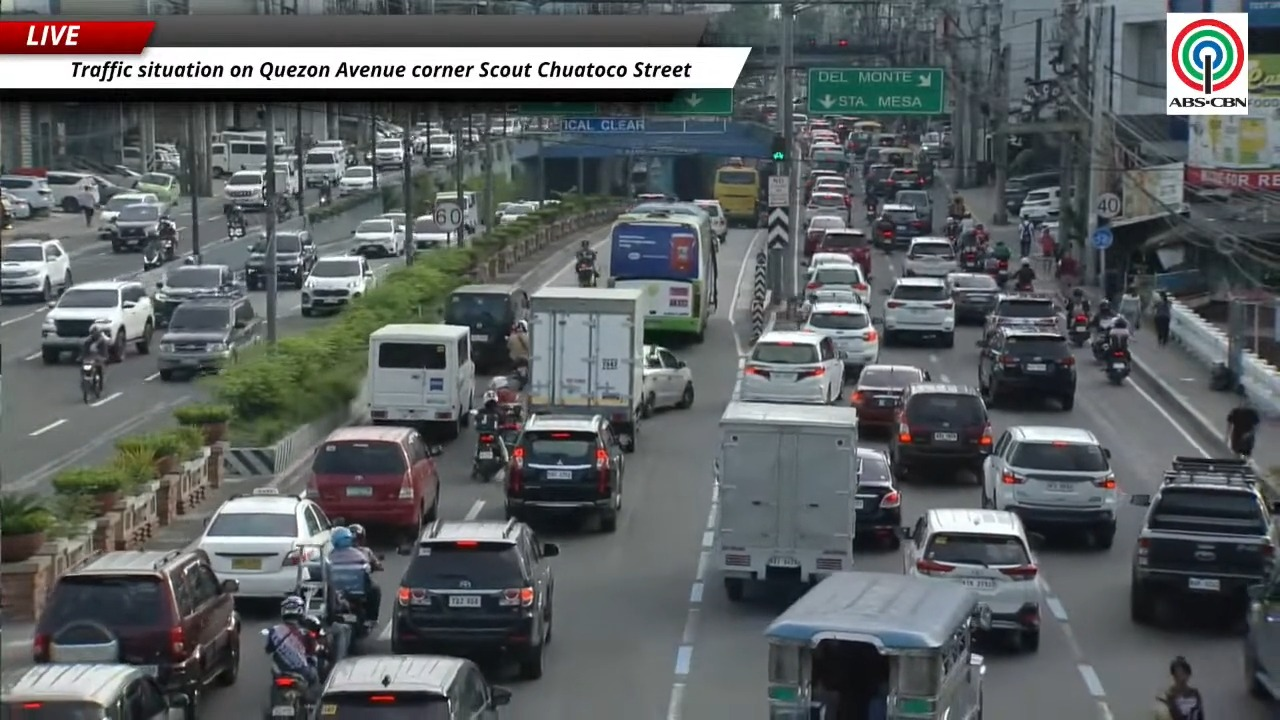bus: (608, 212, 716, 341), (713, 163, 760, 225)
car: (33, 548, 241, 696), (391, 519, 559, 679), (1129, 456, 1279, 624), (903, 508, 1041, 651), (982, 425, 1118, 548), (195, 487, 331, 598), (308, 425, 441, 533), (504, 414, 625, 532), (318, 654, 511, 719), (0, 663, 190, 719), (889, 381, 992, 478), (41, 280, 154, 363), (157, 296, 260, 380), (979, 327, 1076, 410), (740, 331, 844, 404), (444, 283, 528, 373), (152, 265, 245, 327), (801, 302, 879, 373), (851, 364, 930, 433), (884, 277, 955, 347), (854, 447, 901, 548), (0, 237, 71, 302), (301, 255, 375, 316), (643, 345, 694, 412), (985, 293, 1063, 334), (108, 204, 167, 252), (946, 272, 1000, 323), (98, 192, 159, 237), (805, 263, 870, 304), (817, 228, 871, 277), (275, 229, 317, 288), (1005, 171, 1061, 215), (44, 171, 101, 212), (903, 236, 957, 277), (0, 175, 53, 215), (876, 203, 924, 246), (351, 218, 403, 257), (223, 169, 266, 212), (801, 286, 865, 314), (804, 215, 847, 256), (893, 189, 933, 231), (411, 214, 456, 250), (135, 172, 180, 207), (805, 190, 850, 223), (1019, 186, 1060, 222), (694, 199, 727, 243), (337, 165, 376, 195), (804, 169, 839, 201), (864, 162, 895, 197), (885, 168, 925, 192), (374, 138, 404, 169), (498, 202, 538, 225), (0, 191, 31, 219), (424, 133, 457, 159), (808, 252, 853, 269), (814, 175, 850, 195), (378, 212, 406, 232), (493, 201, 512, 225)
motorcycle: (326, 563, 376, 639), (268, 670, 308, 718), (472, 432, 504, 481), (80, 362, 102, 403), (1105, 349, 1130, 384), (1068, 314, 1089, 347), (1091, 329, 1109, 361), (575, 260, 596, 287), (143, 243, 163, 269), (960, 246, 979, 271), (511, 362, 527, 390), (160, 234, 176, 261), (993, 259, 1008, 287), (944, 219, 959, 243), (228, 222, 246, 240), (276, 203, 291, 221), (1014, 280, 1032, 292), (318, 191, 330, 207)
truck: (713, 401, 859, 601), (525, 287, 644, 451)
